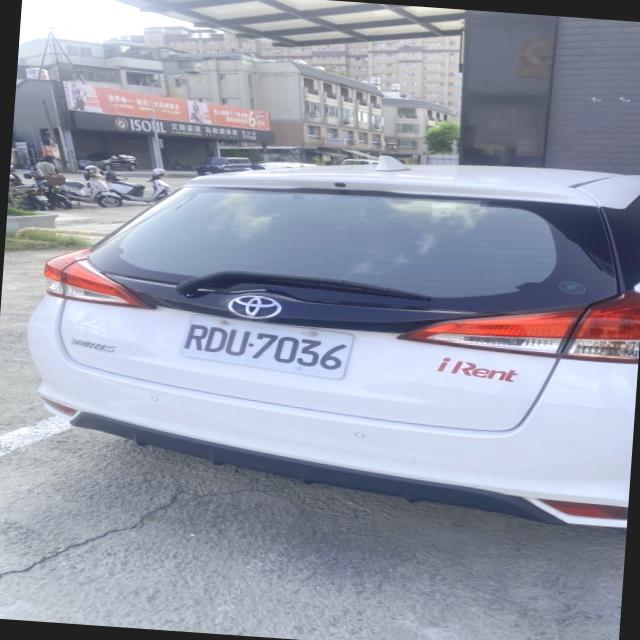license plate: (180, 315, 352, 378)
